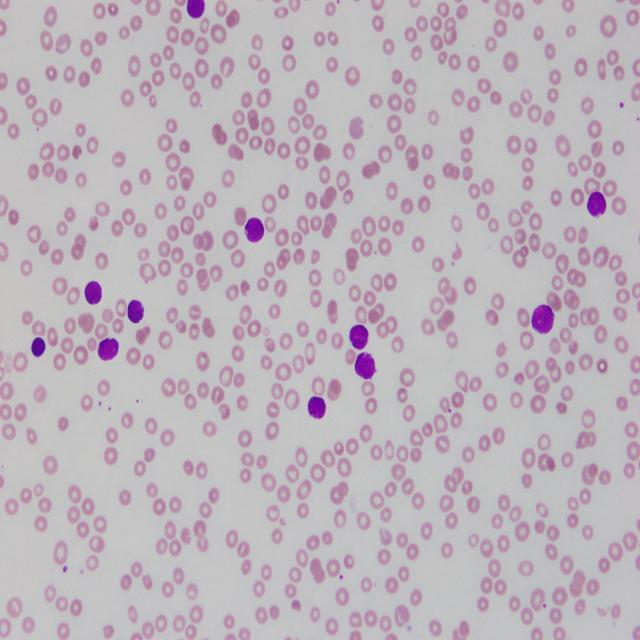cell: (531, 305, 554, 333), (355, 352, 376, 380), (349, 325, 369, 350), (98, 338, 119, 360), (245, 218, 264, 242), (588, 192, 606, 217), (85, 282, 102, 305), (308, 397, 326, 418), (128, 300, 144, 323), (186, 0, 205, 18), (31, 337, 45, 357)
